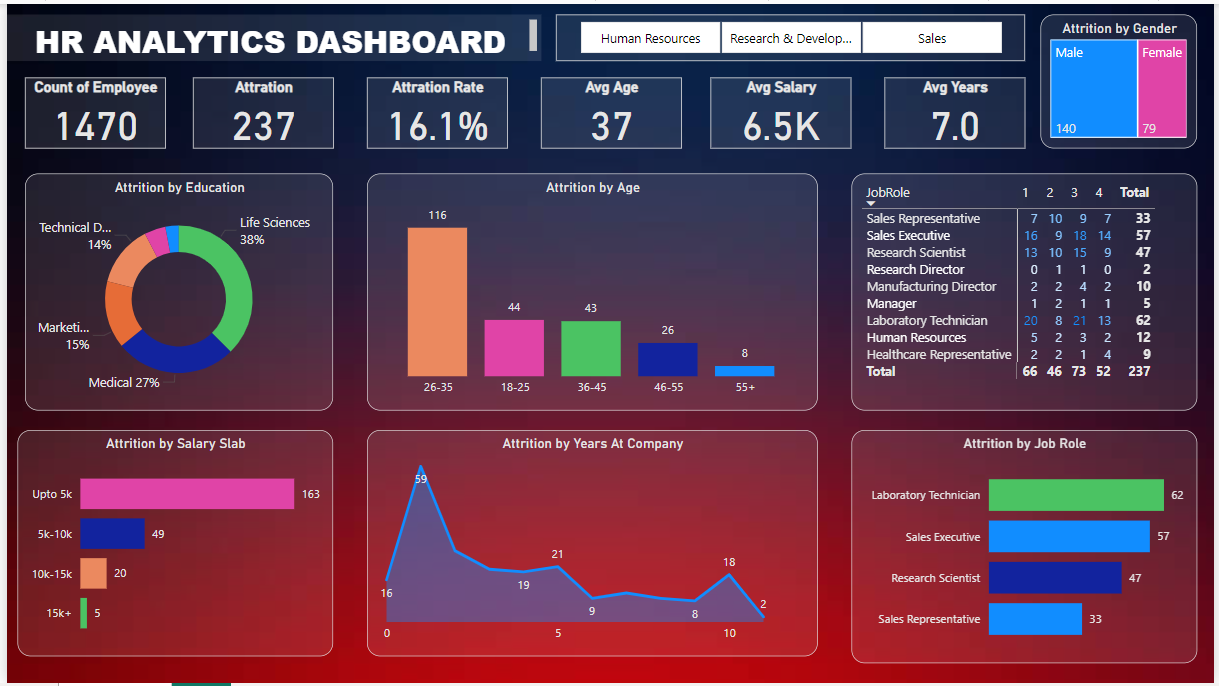

The dashboard page shown, as its layout file describes it:
{"tool":"powerbi","page":{"name":"Page 1","canvas":[1280,720],"ordinal":0},"visuals":[{"type":"card","title":"Count of Employee","fields":{"Values":["CountNonNull(HR_Analytics.EmpID)"]},"box":[18.9,77.5,149.3,75.6],"z":0},{"type":"card","title":"Attration","fields":{"Values":["Sum(HR_Analytics.AttritionCount)"]},"box":[196.5,77.5,149.3,75.6],"z":1000},{"type":"card","title":"Attration Rate","fields":{"Values":["HR_Analytics.AttritionRate"]},"box":[381.7,77.5,149.3,75.6],"z":2000},{"type":"card","title":"Avg Age","fields":{"Values":["Avg(HR_Analytics.Age)"]},"box":[566.9,77.5,149.3,75.6],"z":3000},{"type":"card","title":"Avg Salary","fields":{"Values":["Avg(HR_Analytics.MonthlyIncome)"]},"box":[746.5,77.5,149.3,75.6],"z":4000},{"type":"card","title":"Avg Years","fields":{"Values":["Avg(HR_Analytics.YearsAtCompany)"]},"box":[929.8,77.5,149.3,75.6],"z":5000},{"type":"donutChart","title":"Attrition by Education","fields":{"Category":["HR_Analytics.EducationField"],"Y":["Sum(HR_Analytics.AttritionCount)"]},"box":[18.9,179.5,326.9,251.3],"z":6000},{"type":"columnChart","title":"Attrition by Age","fields":{"Category":["HR_Analytics.AgeGroup"],"Y":["Sum(HR_Analytics.AttritionCount)"]},"box":[381.7,179.5,478.1,251.3],"z":7000},{"type":"pivotTable","fields":{"Rows":["HR_Analytics.JobRole"],"Columns":["HR_Analytics.JobSatisfaction"],"Values":["Sum(HR_Analytics.AttritionCount)"]},"box":[895.8,179.5,366.6,251.3],"z":8000},{"type":"barChart","title":"Attrition by Salary Slab","fields":{"Category":["HR_Analytics.SalarySlab"],"Y":["Sum(HR_Analytics.AttritionCount)"]},"box":[11.3,451.7,334.5,240],"z":9000},{"type":"barChart","title":"Attrition by Job Role","fields":{"Category":["HR_Analytics.JobRole"],"Y":["Sum(HR_Analytics.AttritionCount)"]},"box":[895.8,451.7,366.6,247.6],"z":10000},{"type":"areaChart","title":"Attrition by Years At Company","fields":{"Category":["HR_Analytics.YearsAtCompany"],"Y":["Sum(HR_Analytics.AttritionCount)"]},"box":[381.7,451.7,478.1,240],"z":11000},{"type":"treemap","title":"Attrition by Gender","fields":{"Group":["HR_Analytics.Gender"],"Values":["Sum(HR_Analytics.AttritionCount)"]},"box":[1096.1,11.3,166.3,141.7],"z":12000},{"type":"slicer","fields":{"Values":["HR_Analytics.Department"]},"box":[582.1,11.3,497,49.1],"z":13000},{"type":"textbox","box":[0,11.3,566.9,49.1],"z":14000}]}

Visuals, with their boxes in screenshot pixels (x1, y1, x2, y2), scaled from the page's 1280x720 canvas onto the 1219x686 screenshot:
"Count of Employee" card: 18,74,160,146
"Attration" card: 187,74,329,146
"Attration Rate" card: 364,74,506,146
"Avg Age" card: 540,74,682,146
"Avg Salary" card: 711,74,853,146
"Avg Years" card: 885,74,1028,146
"Attrition by Education" donutChart: 18,171,329,410
"Attrition by Age" columnChart: 364,171,819,410
pivotTable - HR_Analytics.JobRole x HR_Analytics.JobSatisfaction: 853,171,1202,410
"Attrition by Salary Slab" barChart: 11,430,329,659
"Attrition by Job Role" barChart: 853,430,1202,666
"Attrition by Years At Company" areaChart: 364,430,819,659
"Attrition by Gender" treemap: 1044,11,1202,146
slicer - HR_Analytics.Department: 554,11,1028,58
textbox: 0,11,540,58
